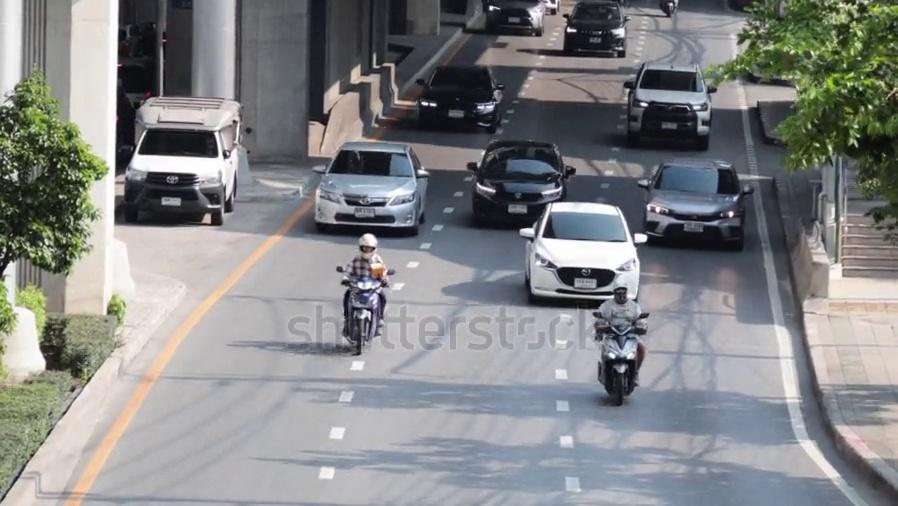rider: (592, 280, 646, 384), (340, 232, 389, 338)
with_helmate: (356, 234, 377, 259), (612, 281, 630, 301)
